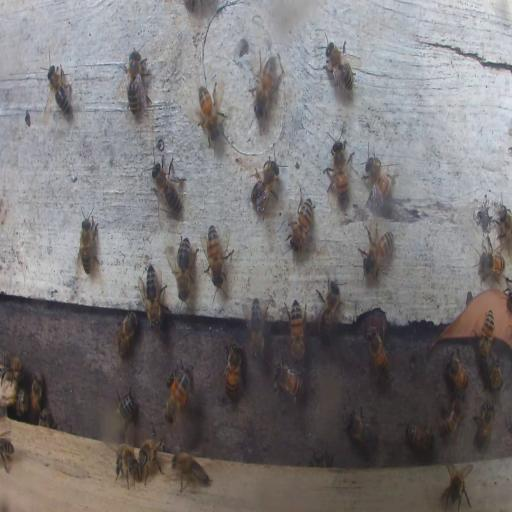bee: (356, 223, 394, 281), (150, 155, 186, 215), (204, 223, 234, 289), (310, 278, 340, 344), (196, 80, 226, 145), (138, 262, 167, 328), (326, 129, 351, 205), (252, 54, 281, 118), (250, 154, 280, 214), (440, 460, 474, 512), (324, 40, 356, 95), (344, 404, 378, 454), (172, 449, 210, 492), (164, 370, 192, 428), (123, 51, 147, 118), (364, 153, 396, 203), (290, 190, 314, 254), (173, 232, 195, 300), (46, 62, 72, 119), (136, 436, 166, 483), (274, 362, 304, 405), (222, 341, 243, 398), (471, 400, 495, 449), (248, 295, 266, 360), (288, 296, 305, 364), (80, 212, 98, 276), (366, 324, 388, 372), (116, 310, 138, 357), (445, 351, 469, 393), (114, 444, 138, 486), (439, 396, 463, 436), (404, 422, 435, 452), (479, 307, 495, 360), (478, 248, 506, 278), (116, 388, 136, 426), (0, 352, 23, 383), (496, 205, 512, 246), (30, 373, 44, 416), (0, 435, 15, 472), (14, 386, 28, 418), (489, 356, 501, 390), (311, 449, 329, 466), (38, 406, 51, 426)
